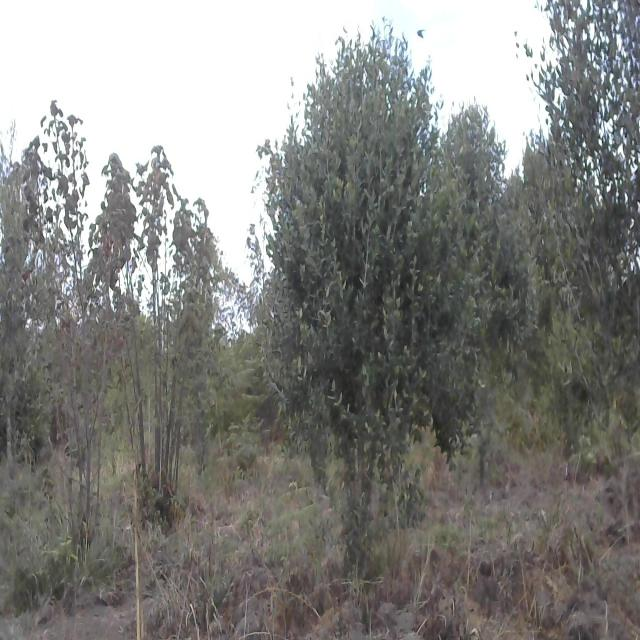Croton machrostychus: (23, 103, 133, 505), (116, 140, 220, 516)
Olea europea -africana-: (262, 36, 486, 535), (531, 1, 640, 350), (440, 90, 540, 368)
